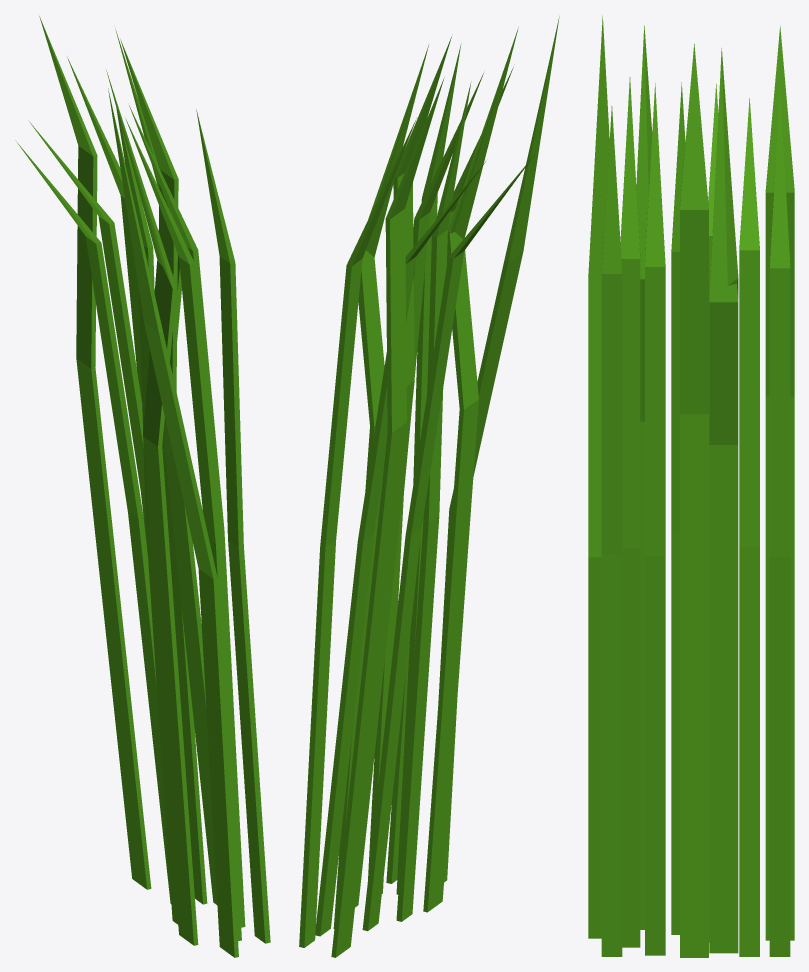
Rendered from Grass_i_03.fbx.
3 views of the same model, side by side, from view 1: azimuth 30°, elevation 25°; view 2: azimuth 150°, elevation 25°; view 3: azimuth 270°, elevation 25° (orthographic). The views are drawn at different scales.
Parts seen in each view (by area): view 1: Grass_i_03_LOD0; view 2: Grass_i_03_LOD0; view 3: Grass_i_03_LOD0.
Boxes of the visible parts, x1,y1,x2,y2 form: Grass_i_03_LOD0: (15, 16, 270, 957); Grass_i_03_LOD0: (299, 16, 559, 957); Grass_i_03_LOD0: (588, 15, 794, 957).
Size of what is drawn, in the model's own units: 6.96 by 29.87 by 6.45.
